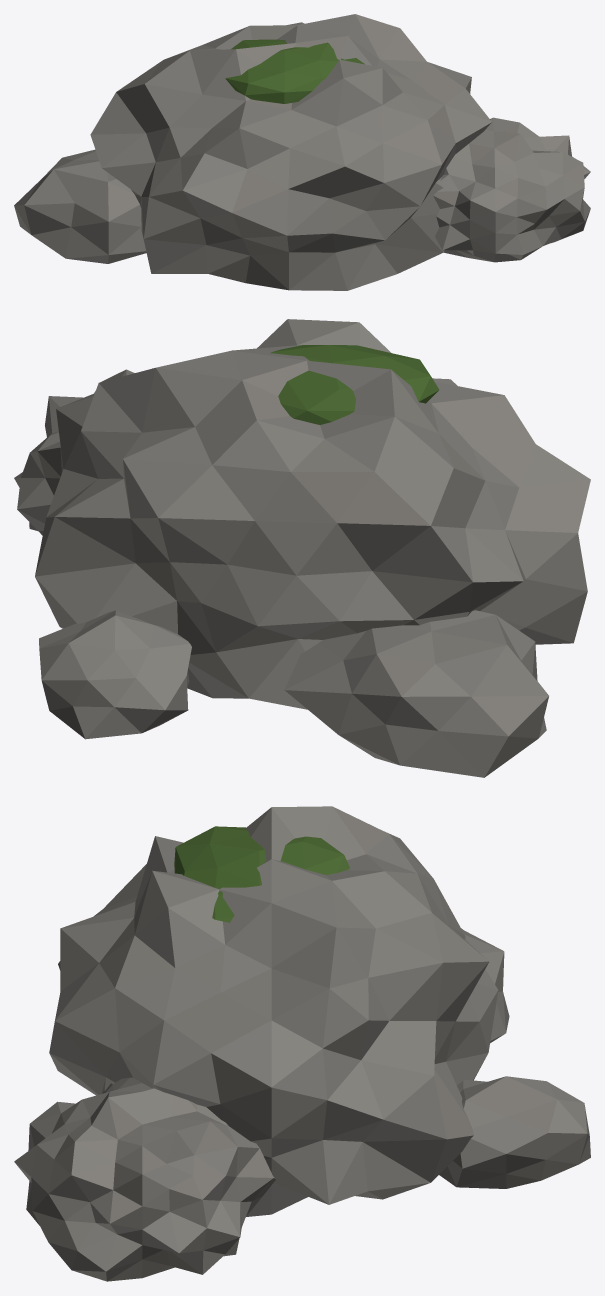
File: rock.glb
3 renders of one model, top to bottom at view 1: azimuth 30°, elevation 25°; view 2: azimuth 150°, elevation 25°; view 3: azimuth 270°, elevation 25°, orthographic. The views are drawn at different scales.
Visible parts, largest first — view 1: rock_mesh; view 2: rock_mesh; view 3: rock_mesh.
Part boxes in pixels (x1,y1,x2,y2): rock_mesh: (14, 14, 590, 290); rock_mesh: (14, 319, 590, 777); rock_mesh: (14, 806, 590, 1281).
Size of the model in its own units: 3.17 by 1.37 by 2.46.
